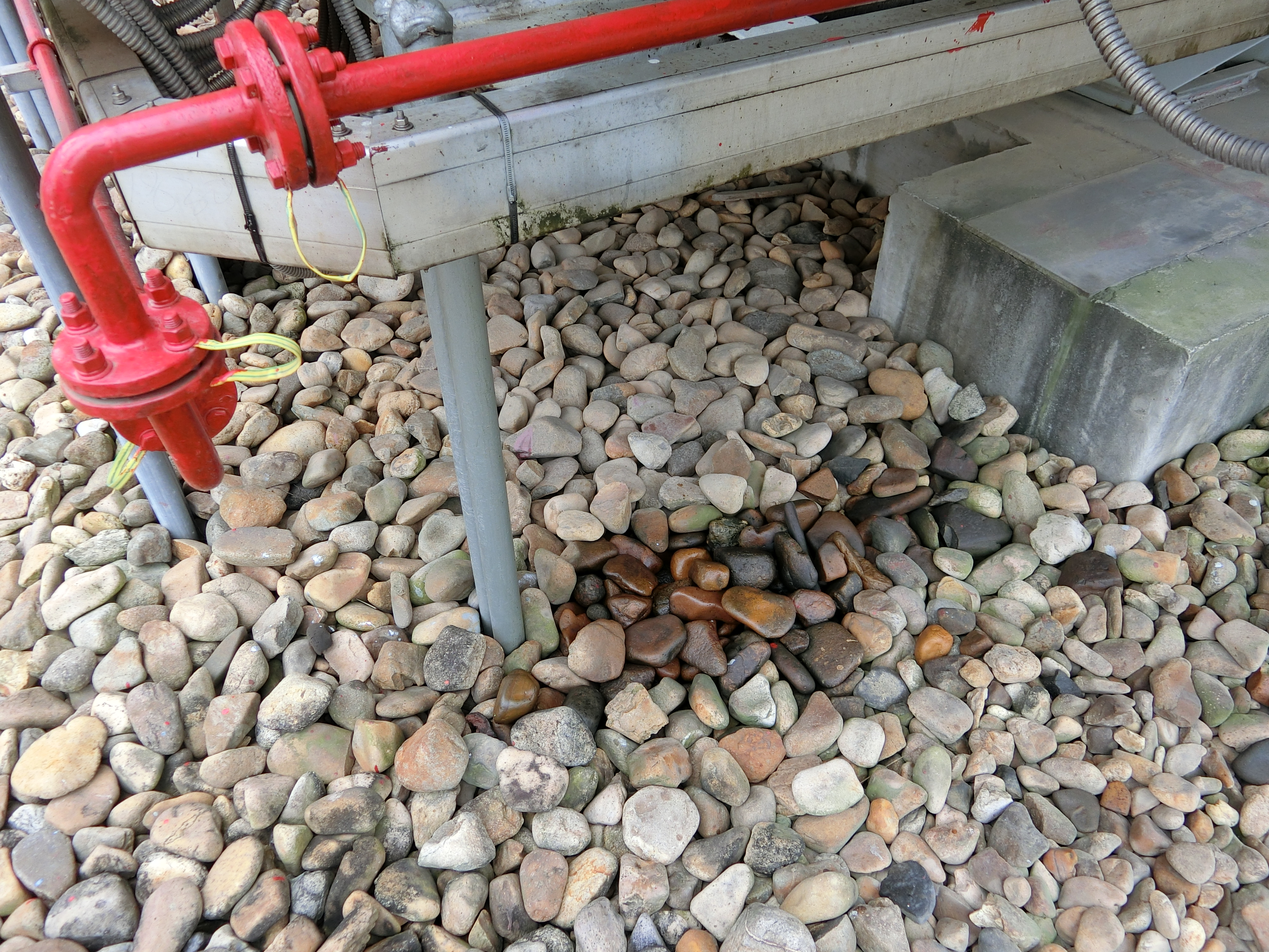sly_bjbmyw: (339, 0, 1048, 224)
sly_dmyw: (529, 459, 938, 700)
